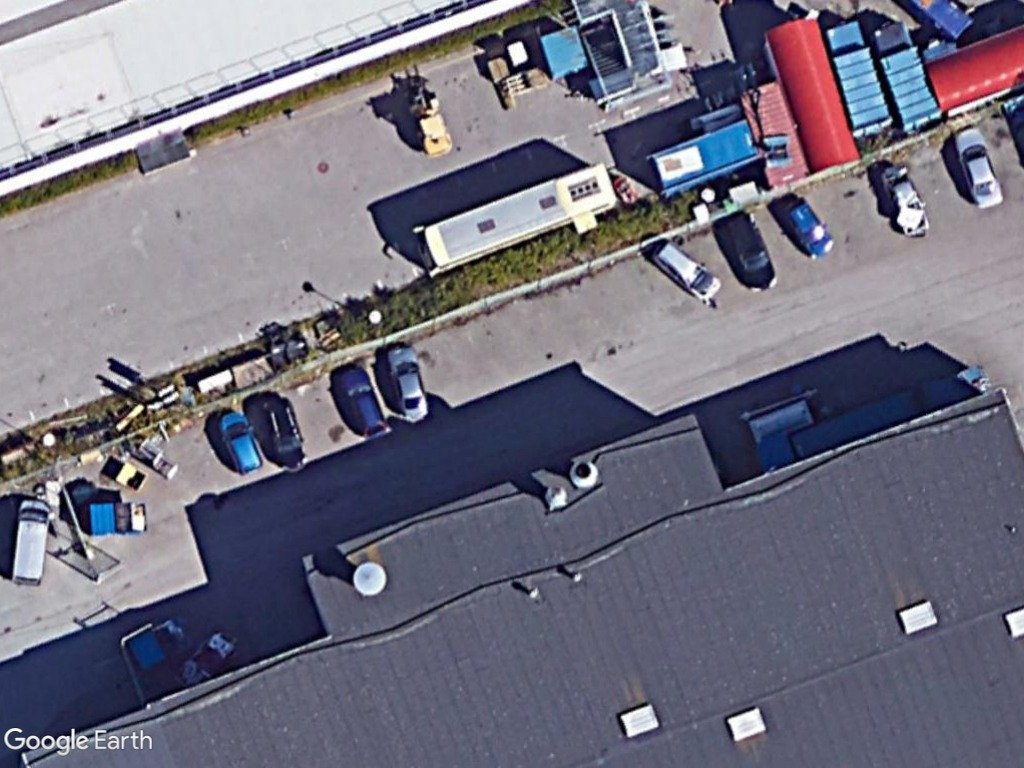bus: (410, 157, 621, 282)
car: (949, 119, 1009, 212), (722, 207, 783, 297), (652, 239, 723, 304), (258, 392, 311, 474), (339, 361, 392, 440), (776, 191, 835, 261), (384, 341, 430, 424), (219, 408, 262, 475)
truck: (818, 17, 895, 142), (869, 21, 942, 130)
van: (5, 496, 55, 588)
